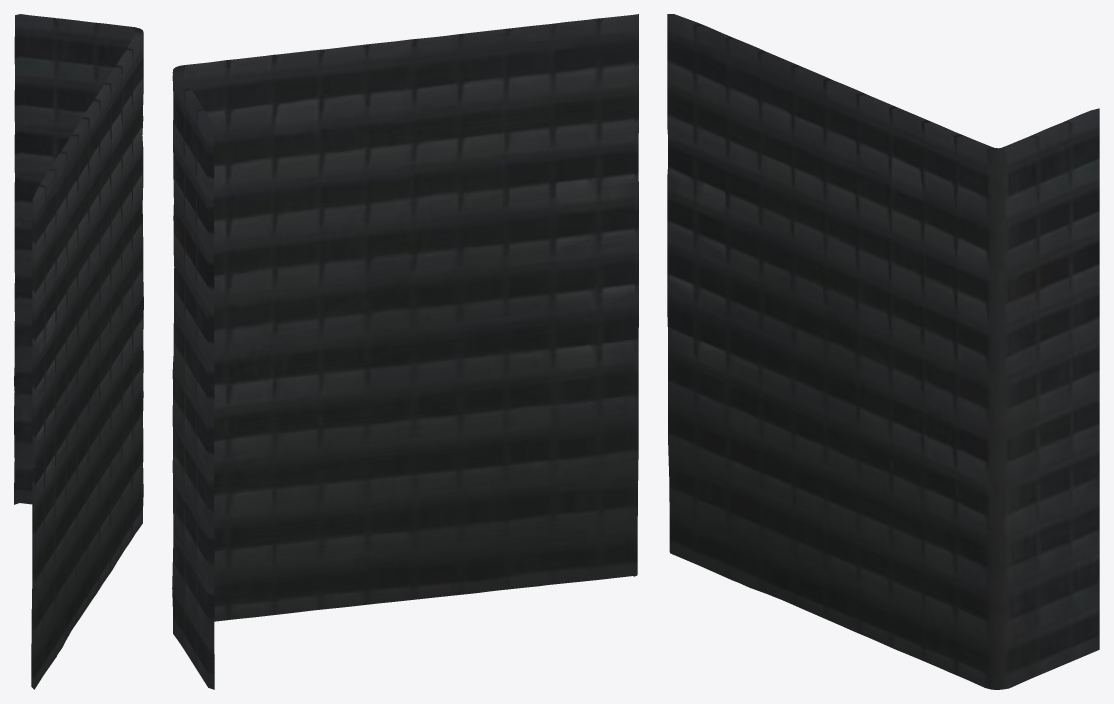
The model's file is z20-167777-405235-h1-yup-uvflip-v3-world.glb.
3 views of the same model, side by side, from view 1: azimuth 30°, elevation 25°; view 2: azimuth 150°, elevation 25°; view 3: azimuth 270°, elevation 25° (orthographic). The views are drawn at different scales.
Size of the model in its own units: 21.48 by 39.28 by 28.52.
Materials: 1 (1 with a texture image).
